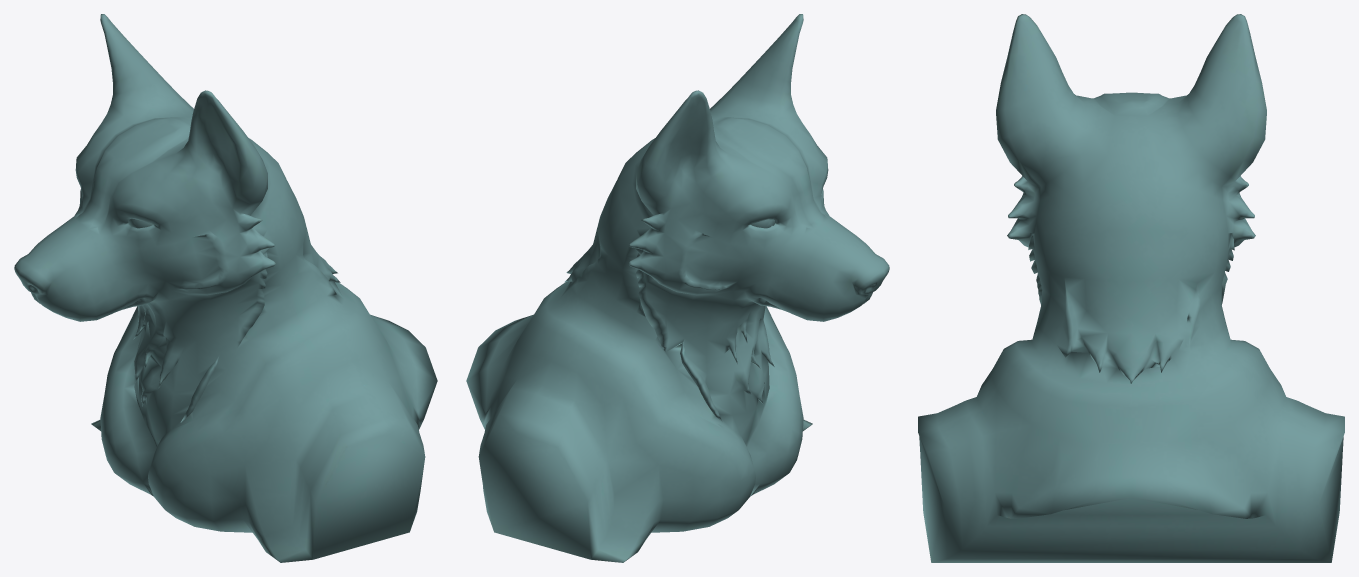
The model's file is selected.glb.
3 views of the same model, side by side, from view 1: azimuth 30°, elevation 25°; view 2: azimuth 150°, elevation 25°; view 3: azimuth 270°, elevation 25° (orthographic). The views are drawn at different scales.
Parts seen in each view (by area): view 1: tripo_node_5268c0a5-514f-43e7-84ea-cc5f8dc238ae; view 2: tripo_node_5268c0a5-514f-43e7-84ea-cc5f8dc238ae; view 3: tripo_node_5268c0a5-514f-43e7-84ea-cc5f8dc238ae.
Boxes of the visible parts, box(x1,y1,x2,y2) form: tripo_node_5268c0a5-514f-43e7-84ea-cc5f8dc238ae: box(14, 14, 437, 562); tripo_node_5268c0a5-514f-43e7-84ea-cc5f8dc238ae: box(466, 14, 889, 562); tripo_node_5268c0a5-514f-43e7-84ea-cc5f8dc238ae: box(918, 14, 1344, 562).
Bounding box in the file's own units: 0.9082 × 0.998 × 0.8262.
1 material, 1 textured.
